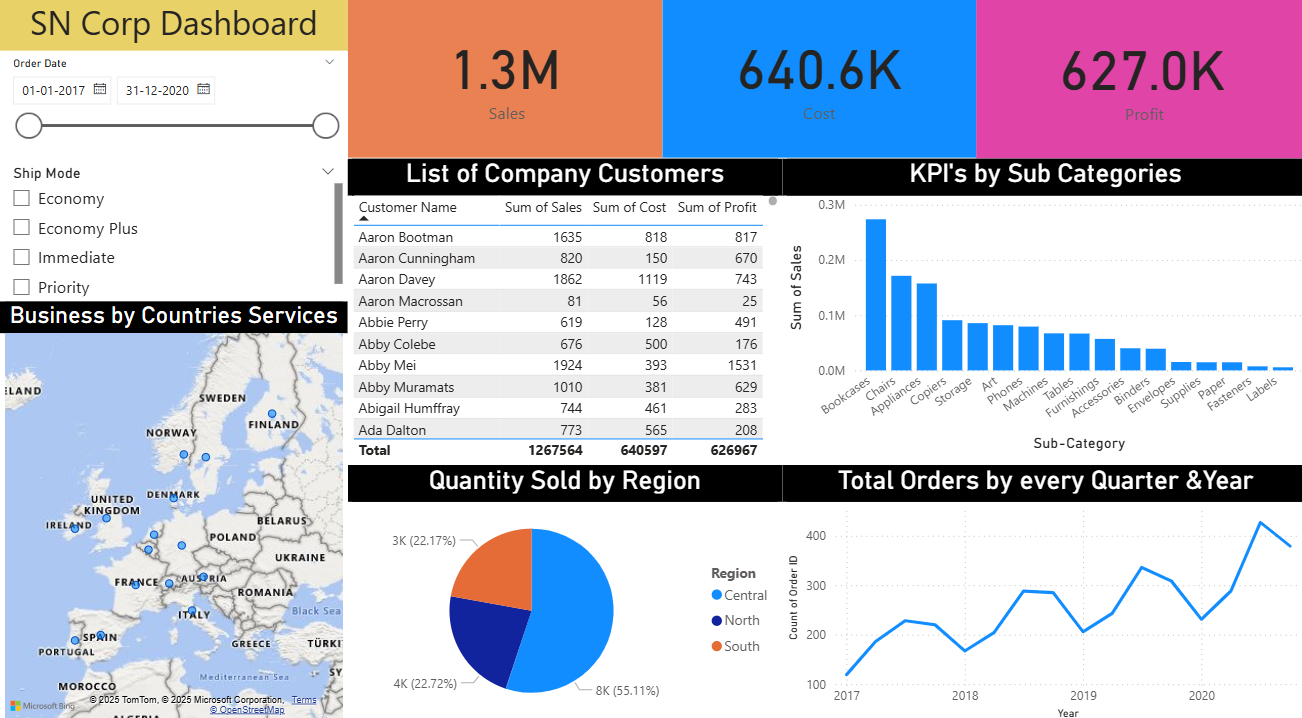

The page's visual inventory and layout, read from the dashboard file:
{"tool":"powerbi","page":{"name":"Page 1","canvas":[1280,720],"ordinal":0},"visuals":[{"type":"card","fields":{"Values":["List of Orders.Sales"]},"box":[339.9,0,308.2,163.9],"z":0},{"type":"card","fields":{"Values":["List of Orders.Cost"]},"box":[648.1,0,306.9,163.9],"z":1000},{"type":"card","fields":{"Values":["List of Orders.Profit"]},"box":[955,0,325.3,165.1],"z":2000},{"type":"tableEx","title":"List of Company Customers","fields":{"Values":["List of Orders.Customer Name","List of Orders.Sales","List of Orders.Cost","List of Orders.Profit"]},"box":[339.9,165.1,425.5,299.6],"z":3000},{"type":"clusteredColumnChart","title":"KPI''s by Sub Categories","fields":{"Category":["List of Orders.Sub-Category"],"Y":["List of Orders.Sales"]},"box":[765.5,165.1,514.8,291],"z":4000},{"type":"lineChart","title":"Total Orders by every Quarter &Year","fields":{"Y":["List of Orders.Order ID"],"Category":["List of Orders.Order Date.Variation.Date Hierarchy.Year","List of Orders.Order Date.Variation.Date Hierarchy.Quarter"]},"box":[765.5,464.7,514.8,254.3],"z":5000},{"type":"pieChart","title":" Quantity Sold by Region","fields":{"Y":["List of Orders.Quantity"],"Category":["List of Orders.Region"]},"box":[339.9,464.7,425.5,254.3],"z":6000},{"type":"map","title":"Business by Countries Services","fields":{"Category":["List of Orders.Country"]},"box":[0,304.5,339.9,415.8],"z":7000},{"type":"textbox","box":[0,5.5,340,54.5],"z":8000},{"type":"slicer","fields":{"Values":["List of Orders.Ship Mode"]},"box":[0,165.5,340,139.1],"z":9000},{"type":"slicer","fields":{"Values":["List of Orders.Order Date"]},"box":[0,60,340,104.5],"z":10000}]}

Visuals, with their boxes in screenshot pixels (x1, y1, x2, y2), scaled from the page's 1280x720 canvas onto the 1302x718 screenshot:
card - List of Orders.Sales: {"x1": 346, "y1": 0, "x2": 659, "y2": 163}
card - List of Orders.Cost: {"x1": 659, "y1": 0, "x2": 971, "y2": 163}
card - List of Orders.Profit: {"x1": 971, "y1": 0, "x2": 1301, "y2": 165}
"List of Company Customers" tableEx: {"x1": 346, "y1": 165, "x2": 779, "y2": 463}
"KPI''s by Sub Categories" clusteredColumnChart: {"x1": 779, "y1": 165, "x2": 1301, "y2": 455}
"Total Orders by every Quarter &Year" lineChart: {"x1": 779, "y1": 463, "x2": 1301, "y2": 717}
" Quantity Sold by Region" pieChart: {"x1": 346, "y1": 463, "x2": 779, "y2": 717}
"Business by Countries Services" map: {"x1": 0, "y1": 304, "x2": 346, "y2": 717}
textbox: {"x1": 0, "y1": 5, "x2": 346, "y2": 60}
slicer - List of Orders.Ship Mode: {"x1": 0, "y1": 165, "x2": 346, "y2": 304}
slicer - List of Orders.Order Date: {"x1": 0, "y1": 60, "x2": 346, "y2": 164}
